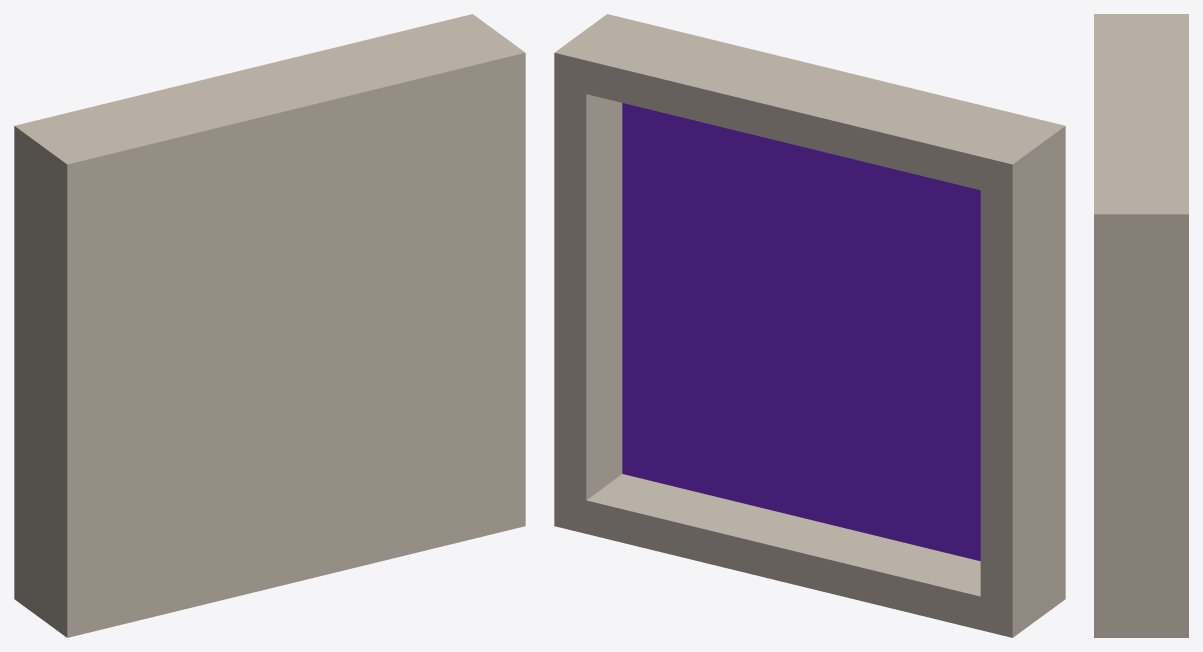
Rendered from Portal.glb.
The picture shows the model from 3 angles, left to right: view 1: azimuth 30°, elevation 25°; view 2: azimuth 150°, elevation 25°; view 3: azimuth 270°, elevation 25°; orthographic projection. The views are drawn at different scales.
Visible parts, largest first — view 1: Cube; view 2: Cube; view 3: Cube.
Part boxes in pixels (x1,y1,x2,y2): Cube: [14, 14, 525, 637]; Cube: [554, 14, 1065, 637]; Cube: [1094, 14, 1188, 637].
Bounding box in the file's own units: 2 × 1.97 × 0.4.
